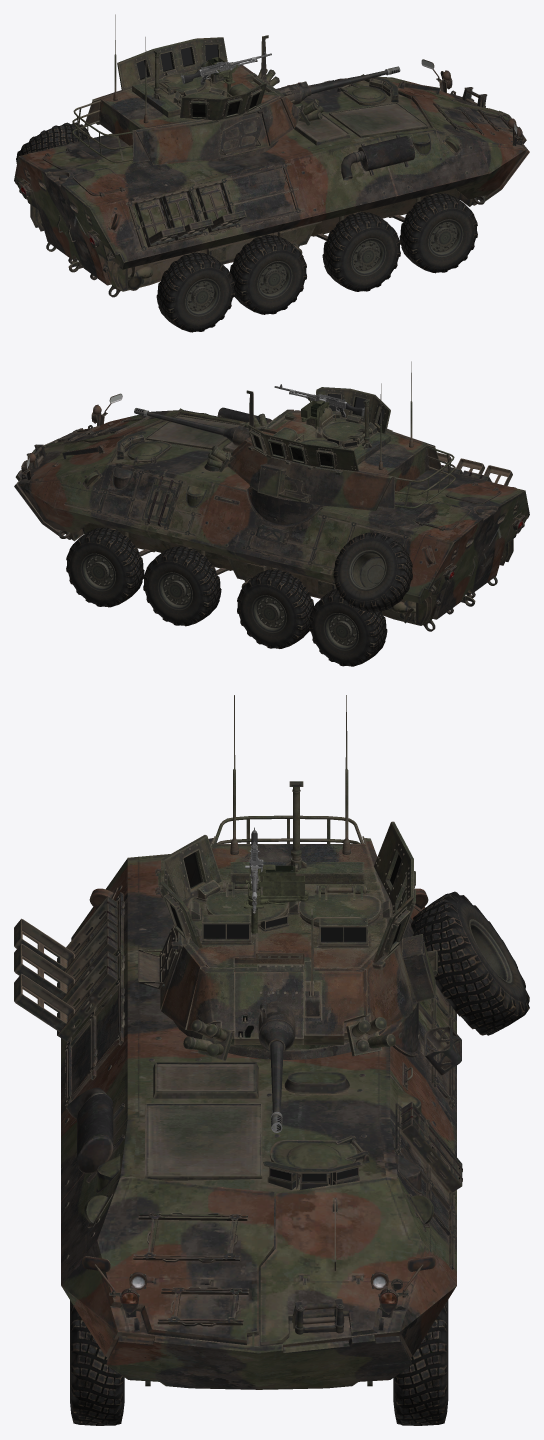
File: lav25.glb
3 views of the same model, one above another, from view 1: azimuth 30°, elevation 25°; view 2: azimuth 150°, elevation 25°; view 3: azimuth 270°, elevation 25° (orthographic). The views are drawn at different scales.
Parts seen in each view (by area): view 1: LAV-25; view 2: LAV-25; view 3: LAV-25.
Part boxes in pixels (x1,y1,x2,y2): LAV-25: (14,14,529,332); LAV-25: (14,361,529,666); LAV-25: (14,695,529,1425).
Bounding box in the file's own units: 35.05 × 19.57 × 18.54.
9 materials, 8 textured.
